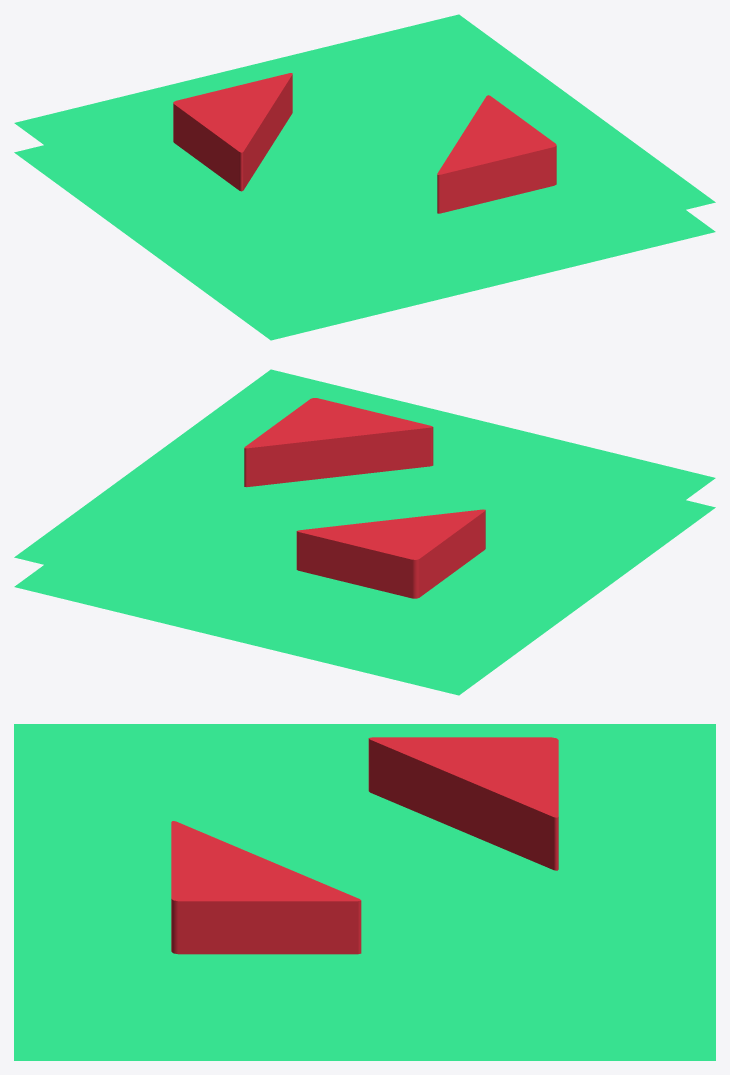
Rendered from obstacleTriangle.fbx.
The picture shows the model from 3 angles, top to bottom: view 1: azimuth 30°, elevation 25°; view 2: azimuth 150°, elevation 25°; view 3: azimuth 270°, elevation 25°; orthographic projection. The views are drawn at different scales.
Visible parts, largest first — view 1: obstacleTriangle; view 2: obstacleTriangle; view 3: obstacleTriangle.
Part boxes in pixels (left/top/right/bottom): obstacleTriangle: left=14, top=14, right=715, bottom=340; obstacleTriangle: left=14, top=369, right=715, bottom=695; obstacleTriangle: left=14, top=724, right=715, bottom=1060.
Size of the model in its own units: 99.99 by 99.99 by 14.67.
